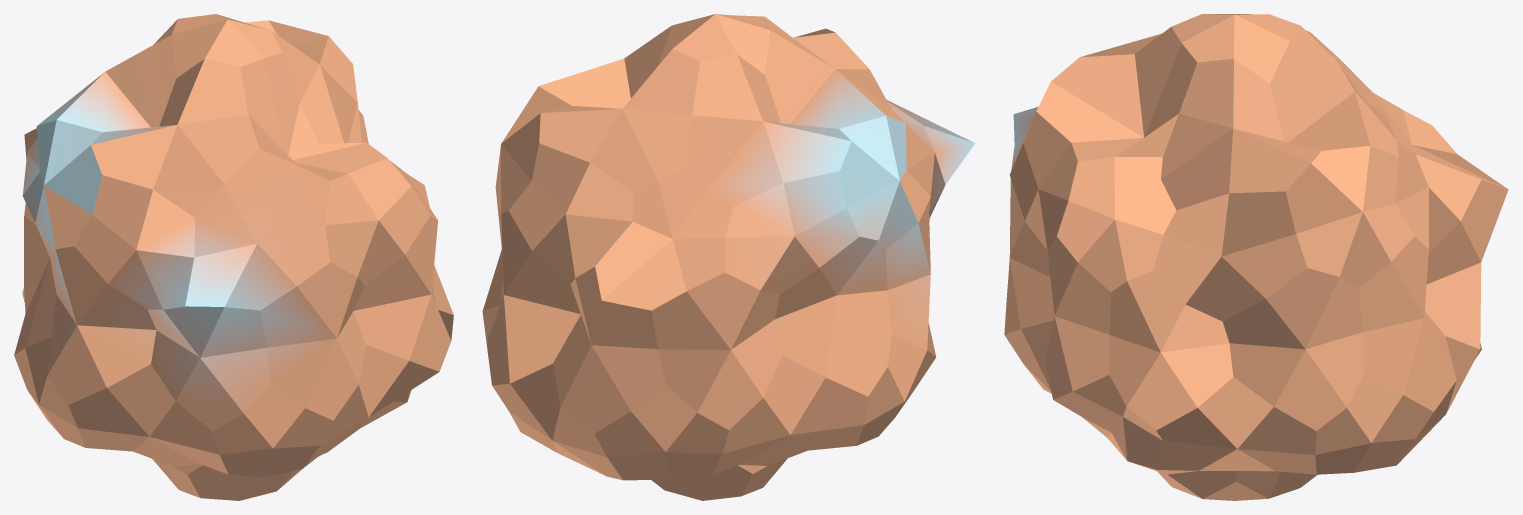
File: land.gltf
3 views of the same model, side by side, from view 1: azimuth 30°, elevation 25°; view 2: azimuth 150°, elevation 25°; view 3: azimuth 270°, elevation 25° (orthographic). The views are drawn at different scales.
Visible parts, largest first — view 1: Icosphere; view 2: Icosphere; view 3: Icosphere.
Boxes of the visible parts, box(x1,y1,x2,y2) form: Icosphere: box(14, 14, 453, 500); Icosphere: box(482, 14, 975, 500); Icosphere: box(1004, 14, 1508, 500).
Bounding box in the file's own units: 2.72 × 3.24 × 3.05.
